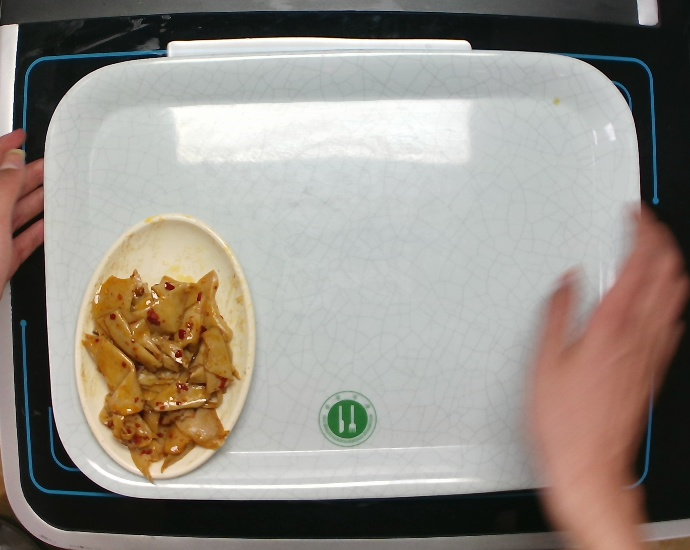JYsf-Tuo_Yuan_Wan: (78, 211, 252, 481)
